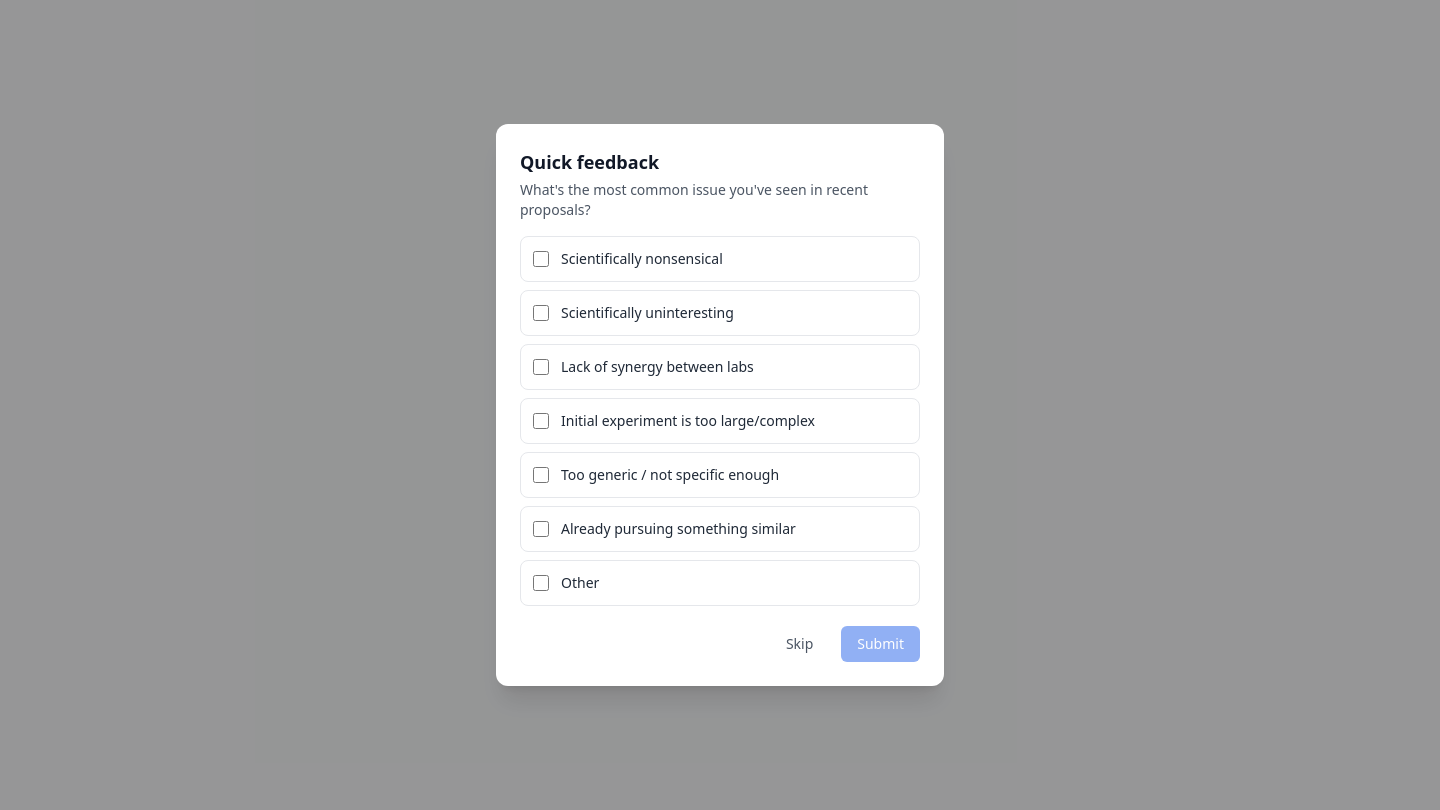
it: SurveyModal › enables Submit button when at least one option is selected
Click the text "Too generic / not specific enough": (670, 475) [561,465,779,485]
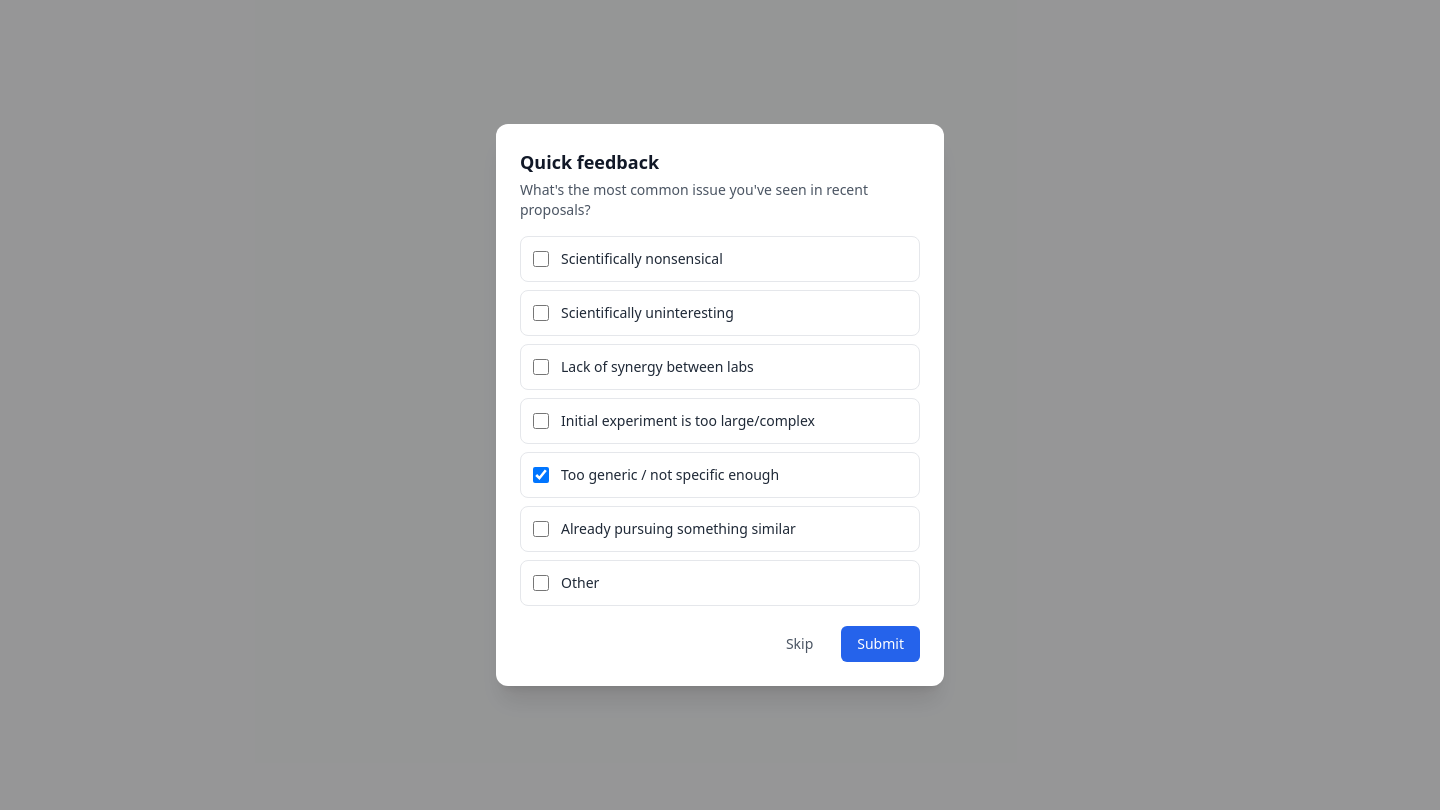
Expected: the button "Submit" is enabled, [841,626,920,662]
